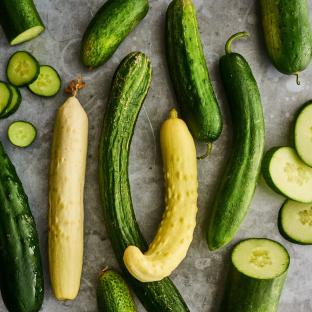Cucumber: (99, 52, 189, 311), (124, 108, 198, 281), (207, 33, 264, 250), (165, 0, 222, 159), (48, 77, 88, 300), (0, 142, 43, 311), (220, 239, 289, 311), (80, 0, 149, 70), (262, 147, 311, 203), (0, 0, 45, 44), (97, 267, 136, 311), (278, 200, 311, 244), (294, 100, 311, 167), (7, 51, 39, 86), (29, 66, 61, 96), (0, 84, 21, 118), (8, 121, 36, 146), (0, 81, 12, 115)
